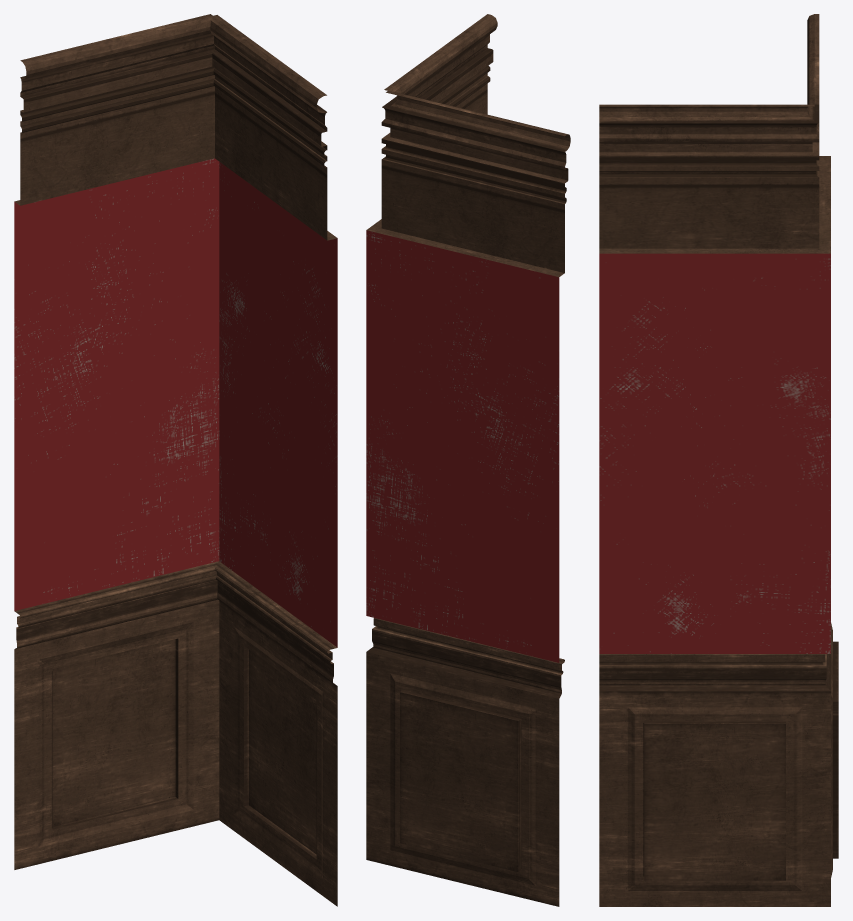
Rendered from SM_Wall_3_001.fbx.
3 renders of one model, left to right at view 1: azimuth 30°, elevation 25°; view 2: azimuth 150°, elevation 25°; view 3: azimuth 270°, elevation 25°, orthographic. The views are drawn at different scales.
Visible parts, largest first — view 1: cheminé:cheminé:mur_coin; view 2: cheminé:cheminé:mur_coin; view 3: cheminé:cheminé:mur_coin.
Boxes of the visible parts, left/top/right/bottom form: cheminé:cheminé:mur_coin: left=14, top=14, right=337, bottom=906; cheminé:cheminé:mur_coin: left=366, top=14, right=570, bottom=906; cheminé:cheminé:mur_coin: left=599, top=14, right=838, bottom=906.
Size of the model in its own units: 152 by 560 by 153.
